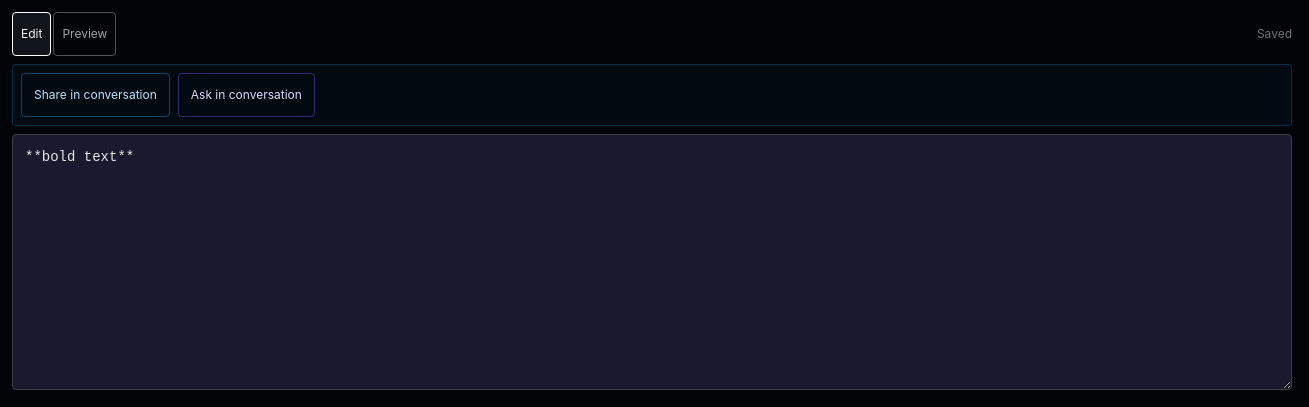
Test: NotesTool — viewport regression › edit mode shows a textarea; preview mode renders markdown
This screenshot has width=1309, height=407.
Click the radio button labelled "Preview": x=85, y=34 top-left (53, 12), bottom-right (116, 56)
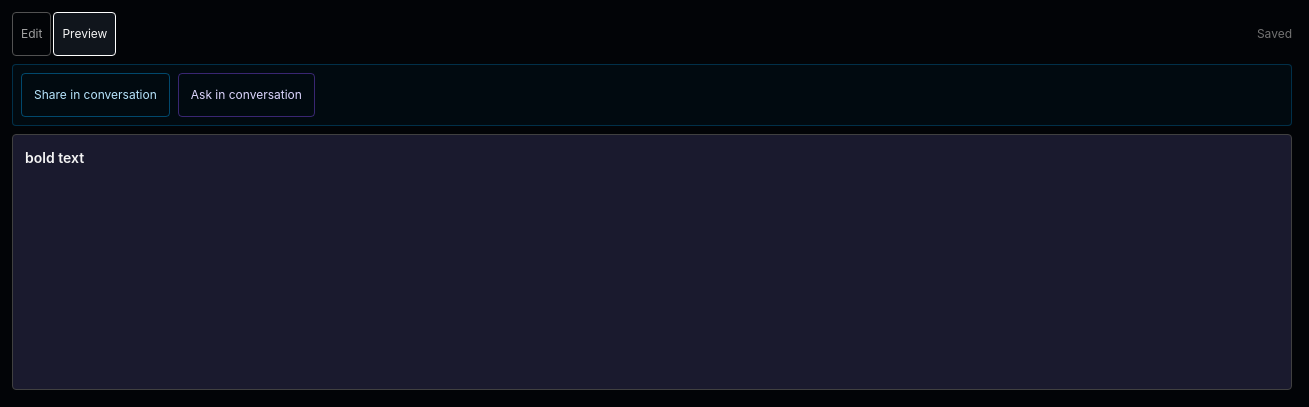
Expected: the text box is gone
Expected: the text "bold text" is shown, top-left (25, 149), bottom-right (84, 166)
